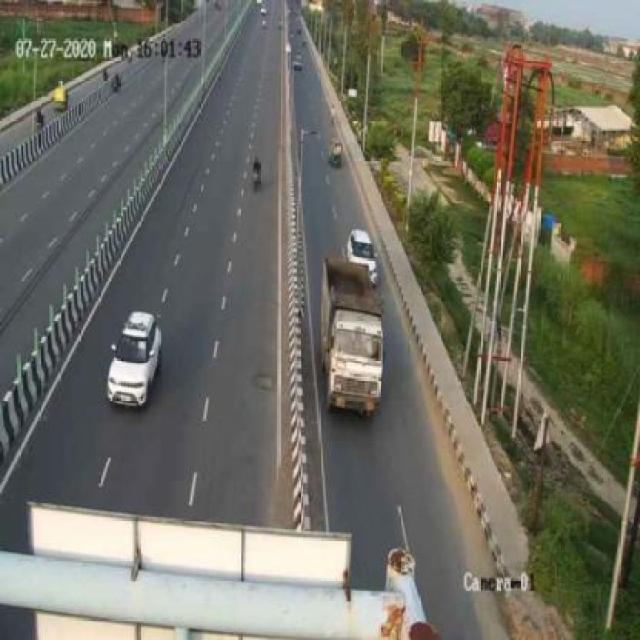car: (102, 308, 166, 412), (343, 228, 380, 277), (326, 137, 345, 172)
